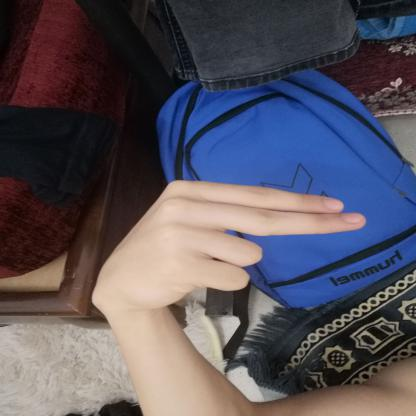AYN: (69, 166, 376, 330)
